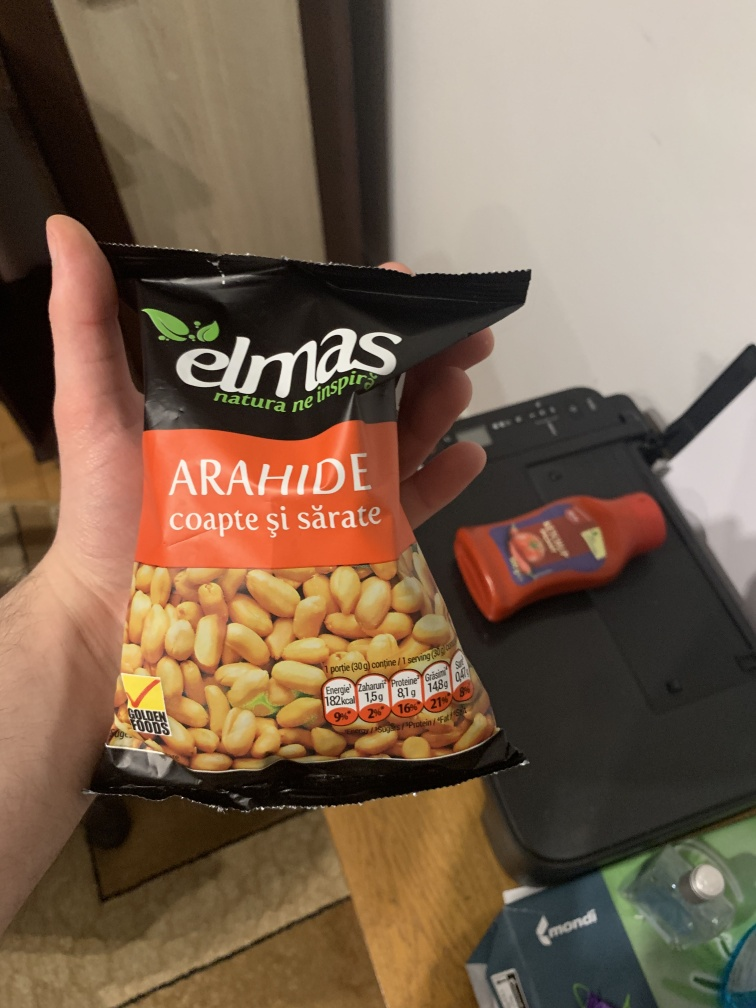ketchup: (448, 490, 675, 625)
peanuts: (91, 232, 530, 824)
